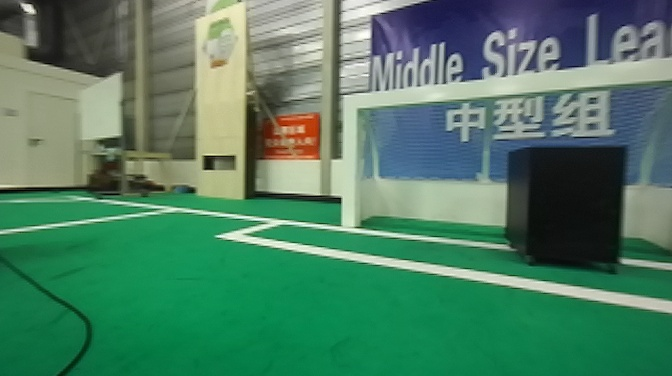goalpost: (341, 92, 365, 234)
